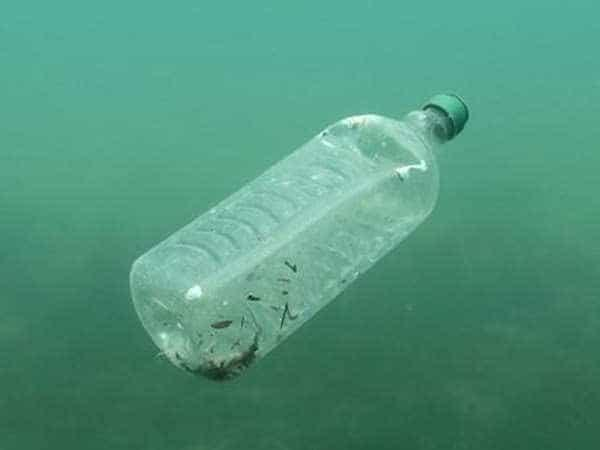bottle: (118, 56, 509, 412)
